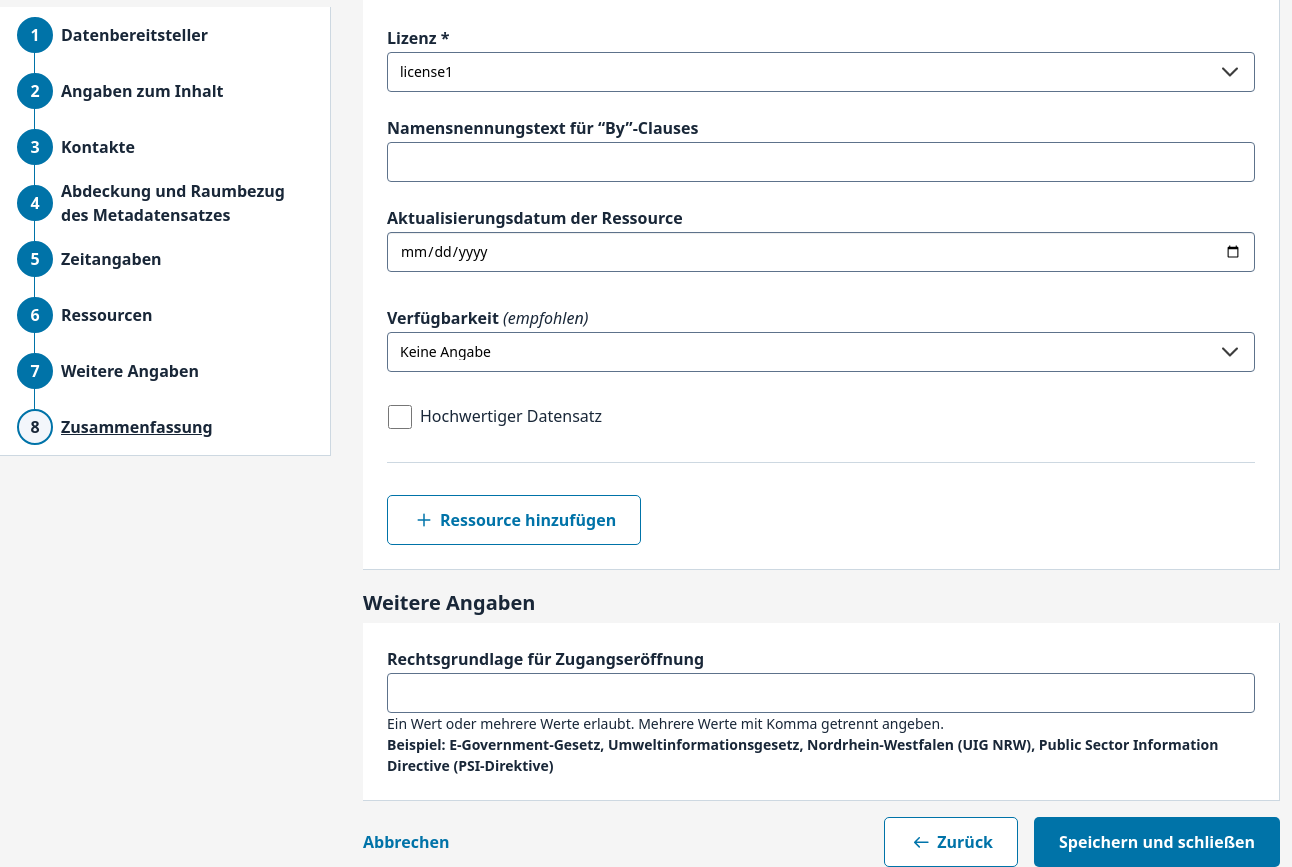
MetadataForm › should show a validation error after a failed request
The image size is (1292, 867).
(page scrolled)
Click the button "Speichern und schließen": x=1157, y=842 x1=1034 y1=817 x2=1280 y2=866
(page scrolled)
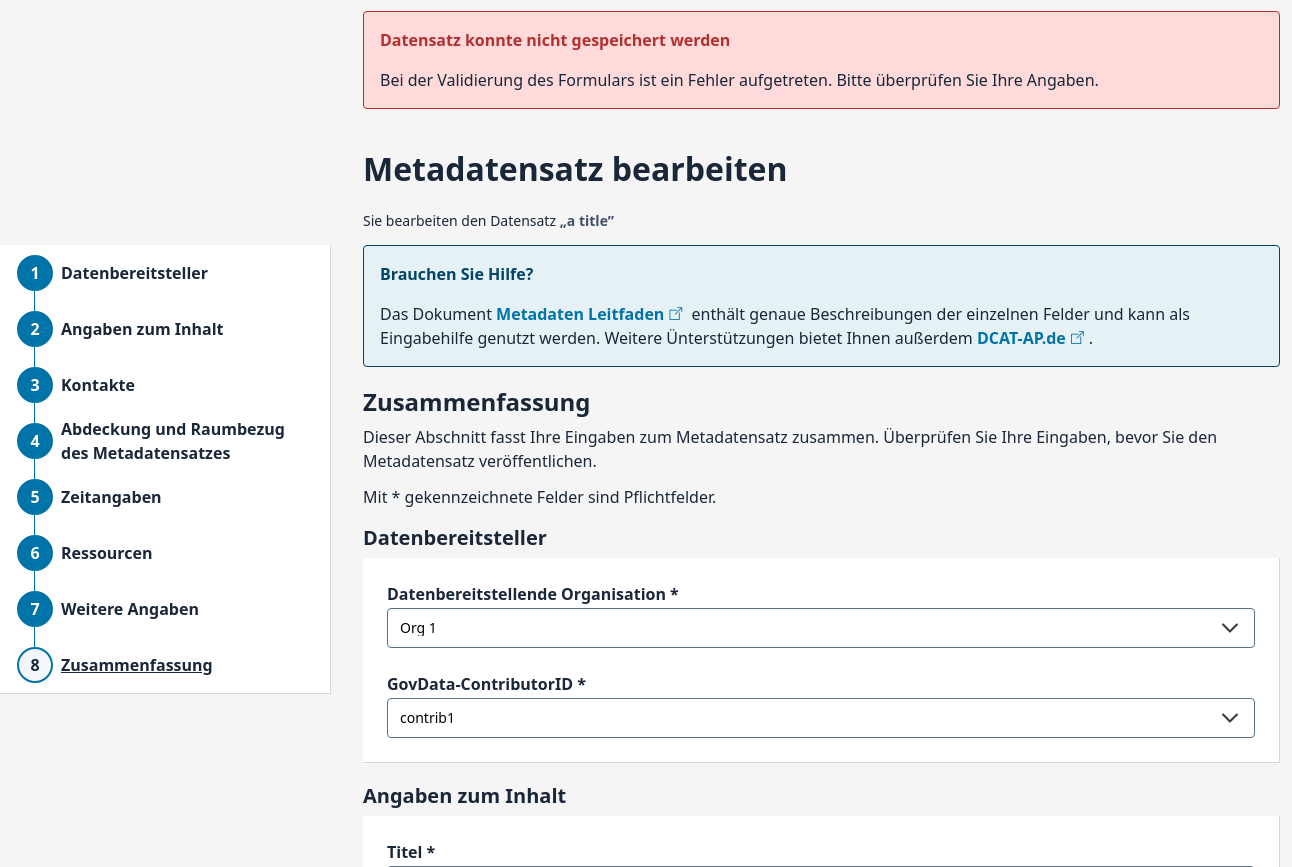
Expected: the text "Bei der Validierung des Formulars ist ein Fehler aufgetreten" is shown, x1=380 y1=69 x2=1099 y2=91
